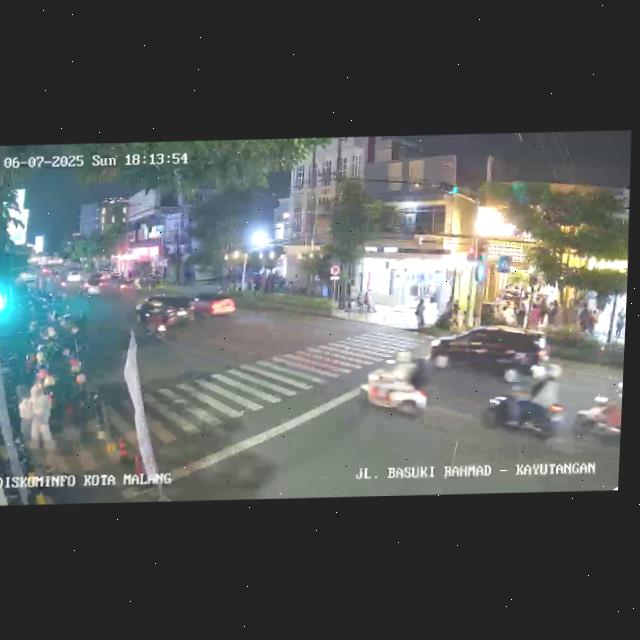car: (432, 323, 553, 386), (133, 292, 197, 328), (188, 288, 239, 322)
motorcycle: (480, 367, 569, 443), (356, 346, 436, 425), (569, 376, 623, 451), (133, 295, 172, 342)
person: (27, 381, 53, 455), (14, 382, 38, 445), (613, 307, 626, 339), (546, 297, 560, 326), (585, 308, 598, 339), (414, 297, 426, 330), (537, 296, 549, 328), (576, 306, 587, 336), (517, 294, 527, 326)
